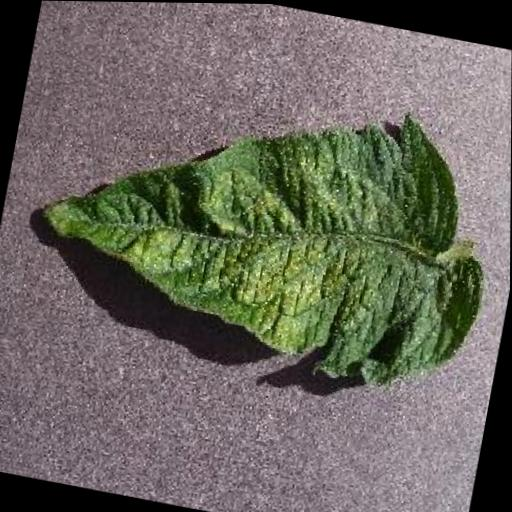Spider Mites: (22, 49, 512, 399)
